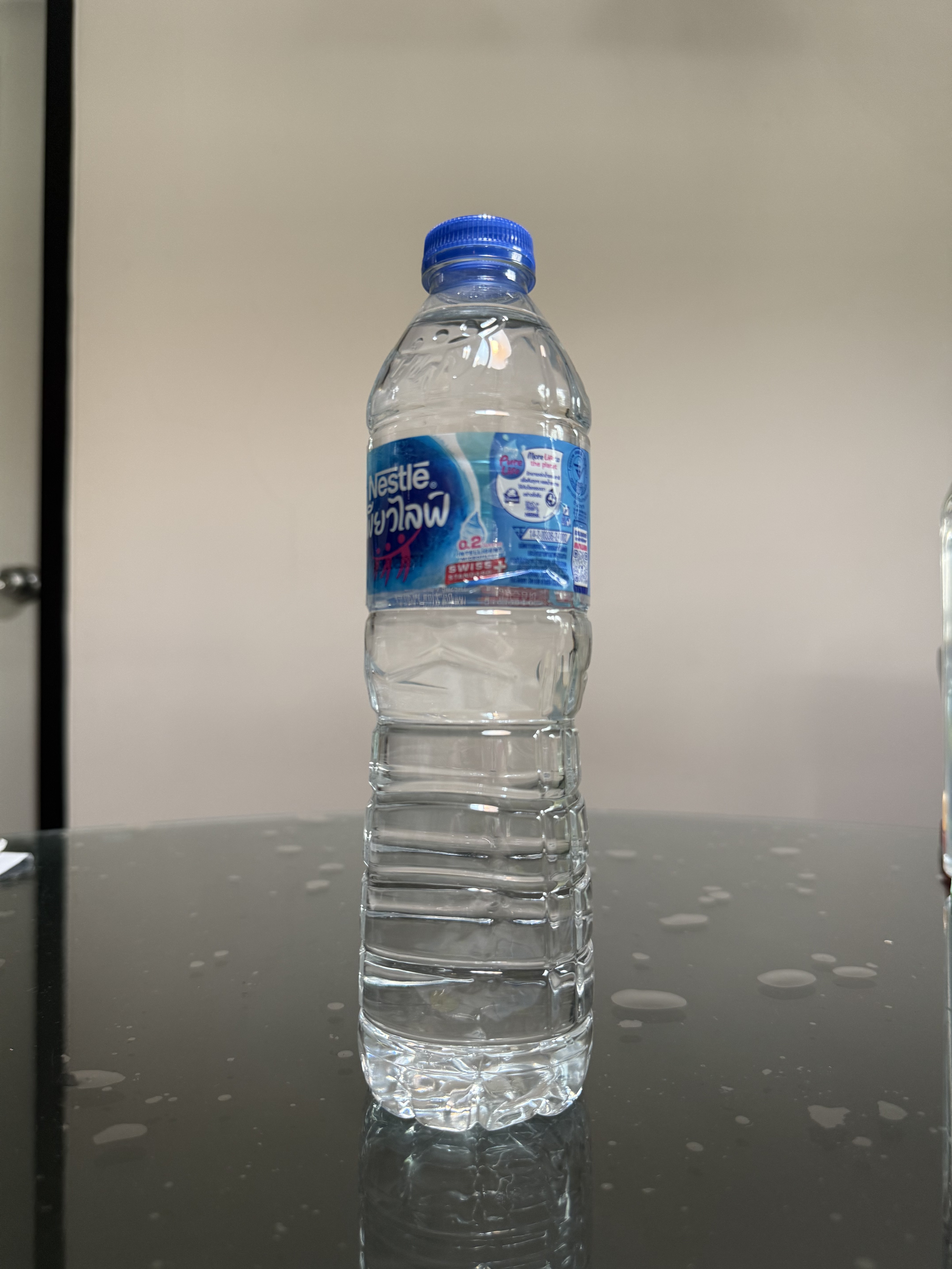closed_cap: (419, 211, 537, 293)
